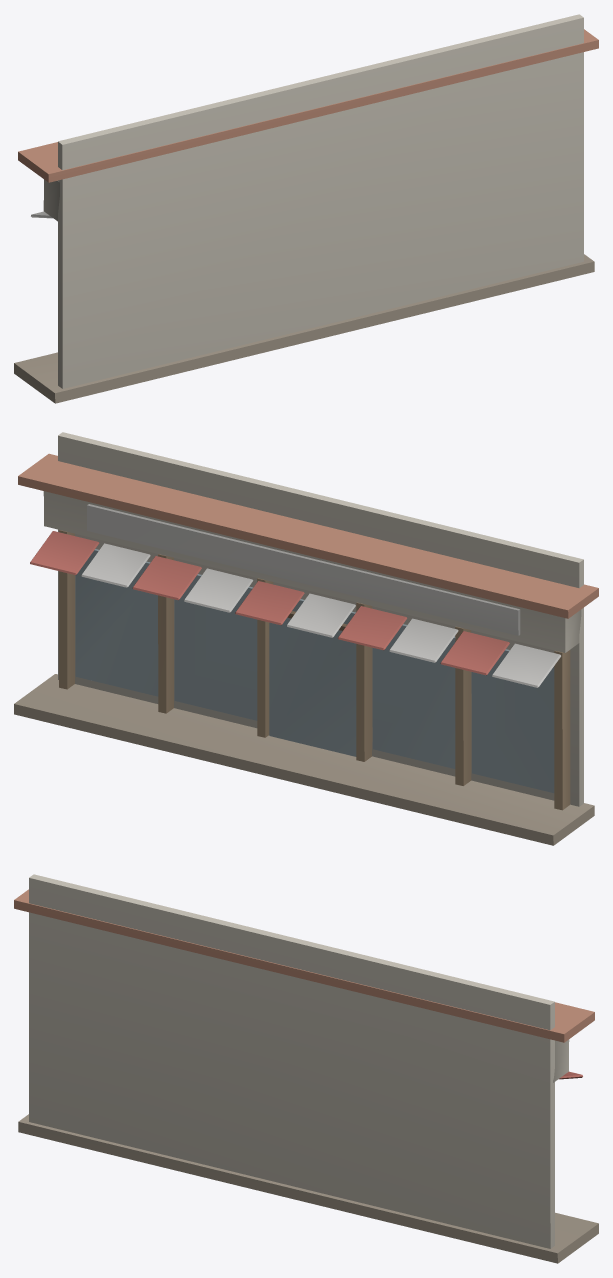
File: facade_mall_low.glb
3 views of the same model, one above another, from view 1: azimuth 30°, elevation 25°; view 2: azimuth 150°, elevation 25°; view 3: azimuth 330°, elevation 25° (orthographic).
Bounding box in the file's own units: 30.56 × 13.56 × 3.96.
